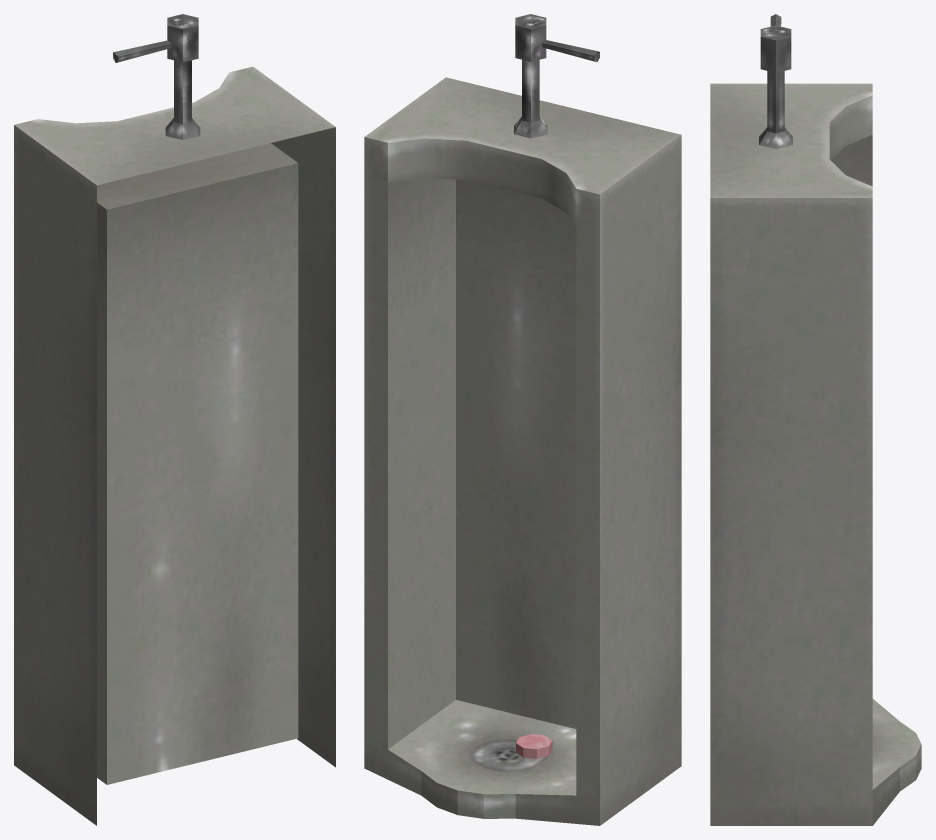
File: urinal.fbx
3 views of the same model, side by side, from view 1: azimuth 30°, elevation 25°; view 2: azimuth 150°, elevation 25°; view 3: azimuth 270°, elevation 25° (orthographic). The views are drawn at different scales.
Visible parts, largest first — view 1: mesh_1; view 2: mesh_1, mesh_0; view 3: mesh_1.
Part boxes in pixels (x1,y1,x2,y2): mesh_1: (14, 14, 335, 825); mesh_1: (364, 14, 681, 825); mesh_0: (516, 734, 552, 758); mesh_1: (710, 14, 921, 825).
Bounding box in the file's own units: 50 × 150 × 39.
Materials: 1 (1 with a texture image).
